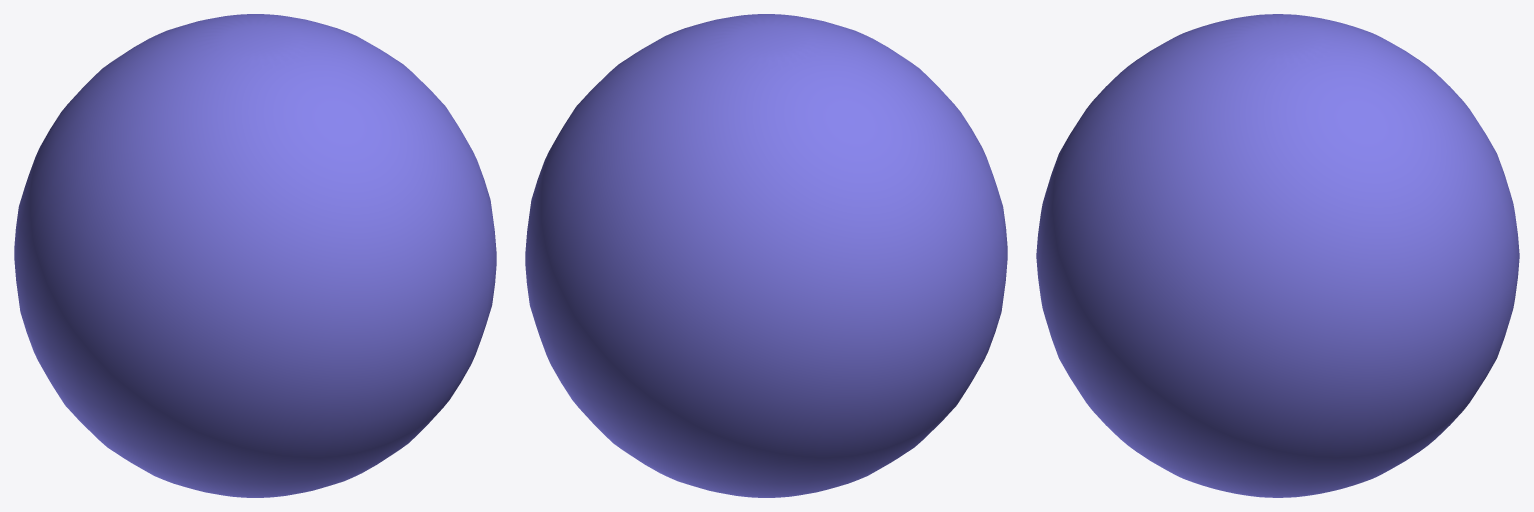
The picture shows the model from 3 angles, left to right: view 1: azimuth 30°, elevation 25°; view 2: azimuth 150°, elevation 25°; view 3: azimuth 270°, elevation 25°; orthographic projection.
Visible parts, largest first — view 1: Sphere; view 2: Sphere; view 3: Sphere.
Boxes of the visible parts, x1,y1,x2,y2 form: Sphere: [14, 14, 496, 497]; Sphere: [525, 14, 1007, 497]; Sphere: [1036, 14, 1519, 497].
Bounding box in the file's own units: 0.6976 × 0.6976 × 0.6976.
